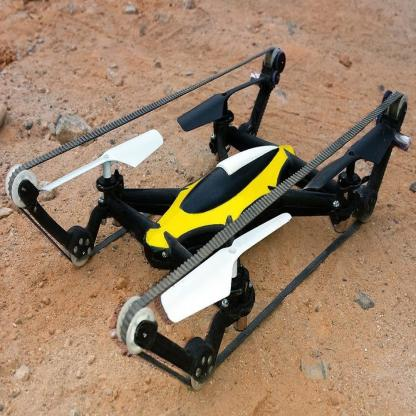drone: (57, 56, 396, 348)
